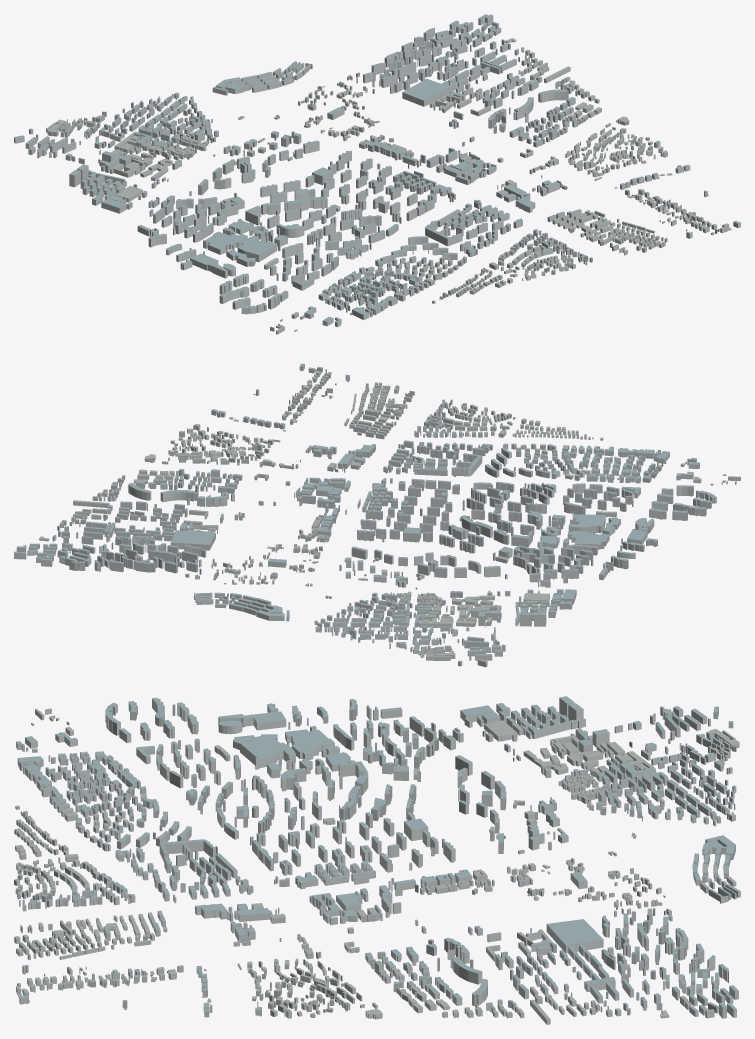
The model's file is far.glb.
3 renders of one model, top to bottom at view 1: azimuth 30°, elevation 25°; view 2: azimuth 150°, elevation 25°; view 3: azimuth 270°, elevation 25°, orthographic. The views are drawn at different scales.
Size of the model in its own units: 2190 by 50 by 2117.
